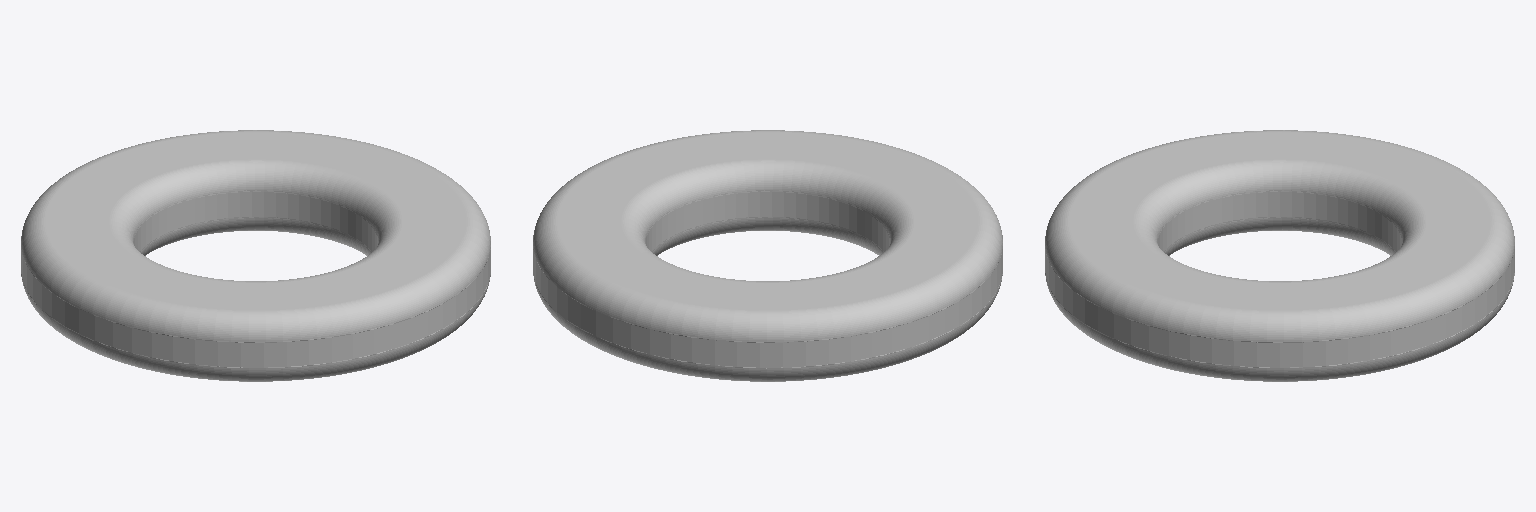
Rendered from doughnut_convex.obj.
The picture shows the model from 3 angles: view 1: azimuth 30°, elevation 25°; view 2: azimuth 150°, elevation 25°; view 3: azimuth 270°, elevation 25°; orthographic projection.
Size of the model in its own units: 45.72 by 7.41 by 45.72.